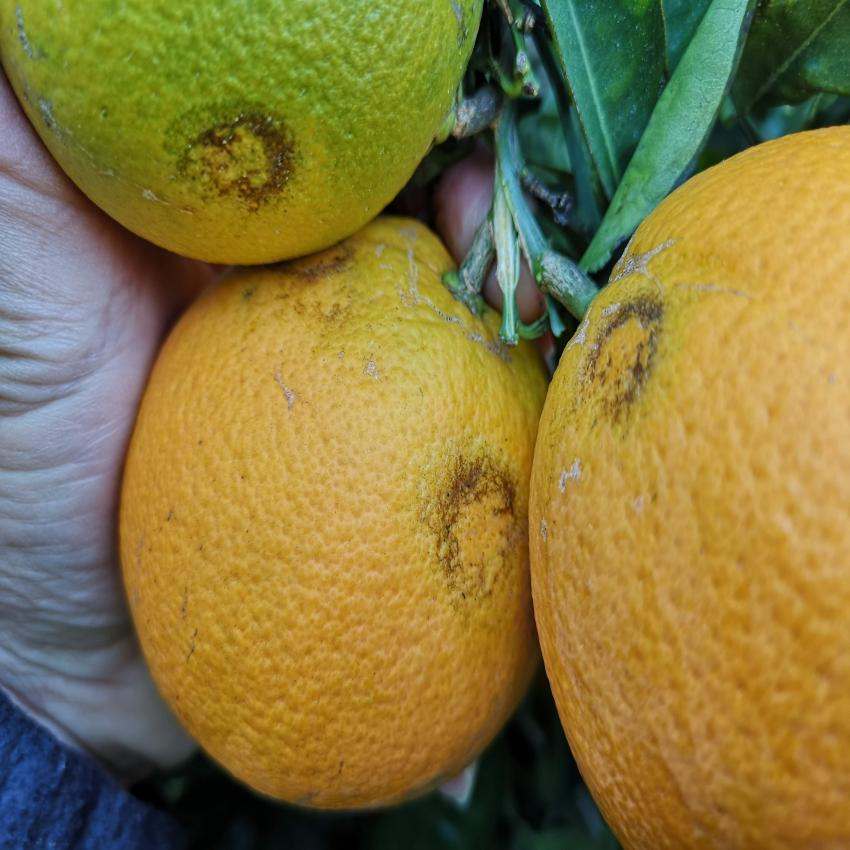Mal estado: (103, 204, 551, 809), (532, 121, 850, 831), (0, 0, 492, 260)
